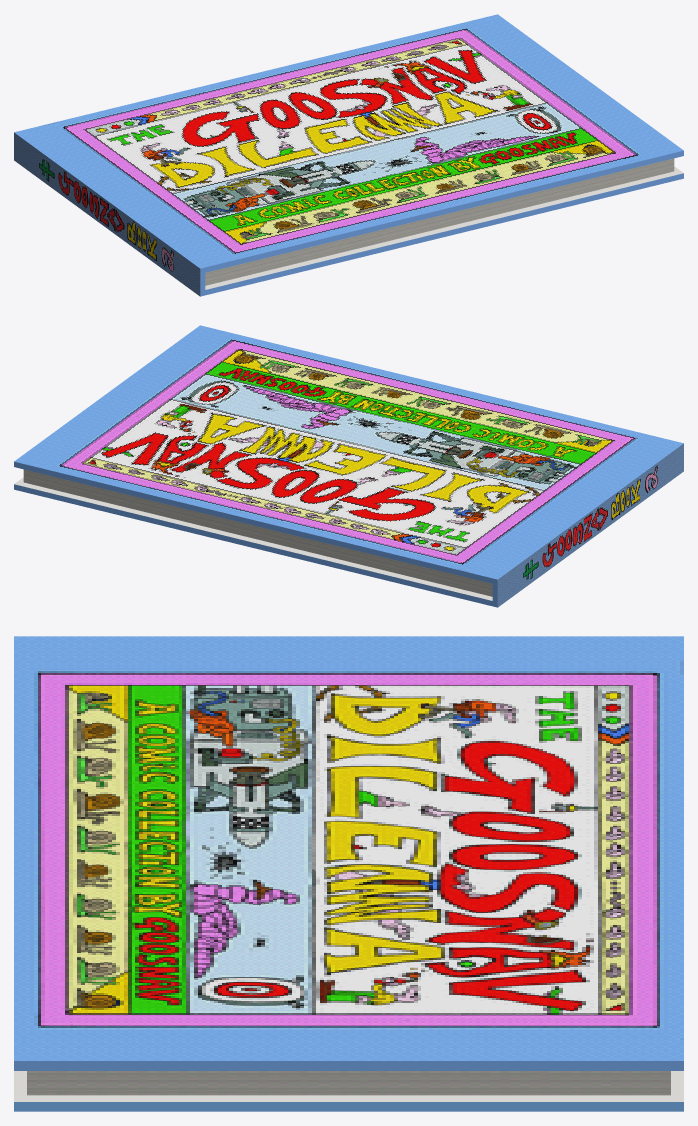
The model's file is book.glb.
3 renders of one model, top to bottom at view 1: azimuth 30°, elevation 25°; view 2: azimuth 150°, elevation 25°; view 3: azimuth 270°, elevation 25°, orthographic. The views are drawn at different scales.
Visible parts, largest first — view 1: book2_goosnav_dilemma; view 2: book2_goosnav_dilemma; view 3: book2_goosnav_dilemma.
Part boxes in pixels (<box>): book2_goosnav_dilemma: <box>14,14,683,296</box>; book2_goosnav_dilemma: <box>14,325,683,607</box>; book2_goosnav_dilemma: <box>14,636,683,1111</box>.
Size of the model in its own units: 0.2339 by 0.013 by 0.156.
Materials: 6 (4 with a texture image).
